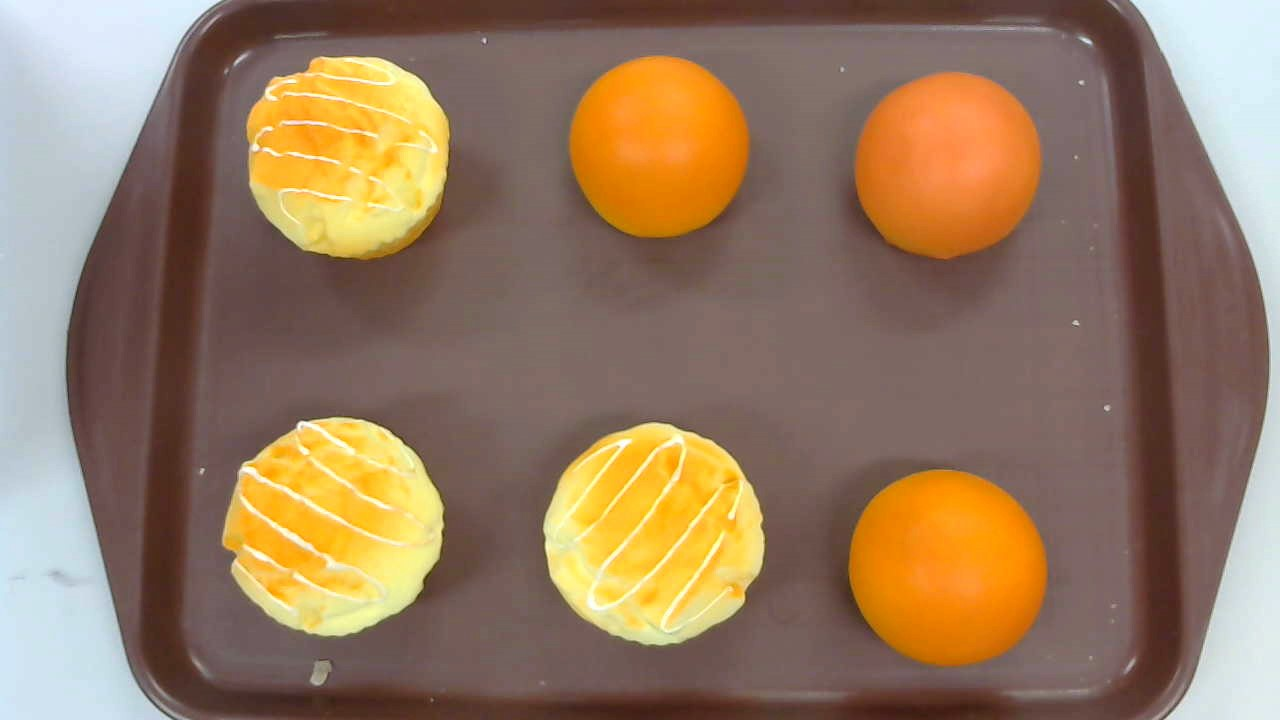bun: (848, 470, 1047, 667), (854, 72, 1041, 260), (569, 55, 749, 239)
cupcake: (542, 421, 766, 648), (222, 417, 445, 638), (247, 55, 451, 261)
